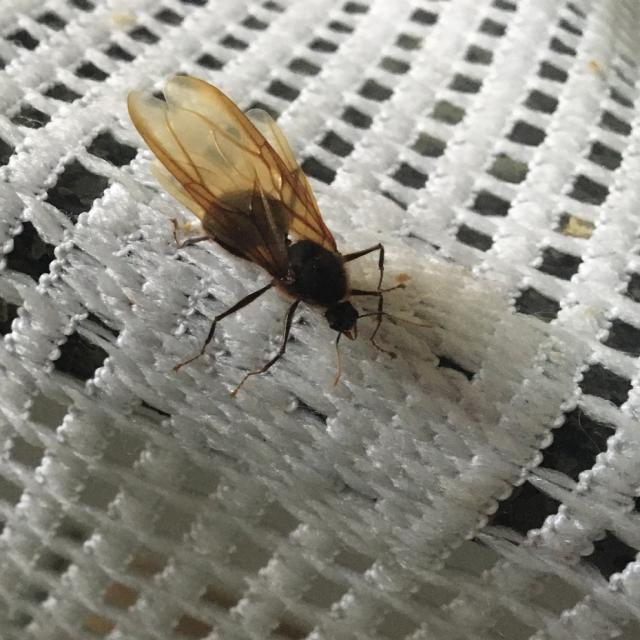Alive-Male-Alate: (126, 74, 433, 400)
